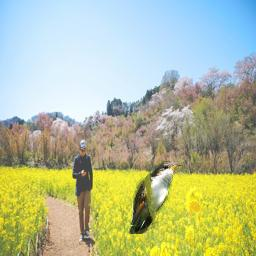Cuckoo: (129, 161, 182, 234)
